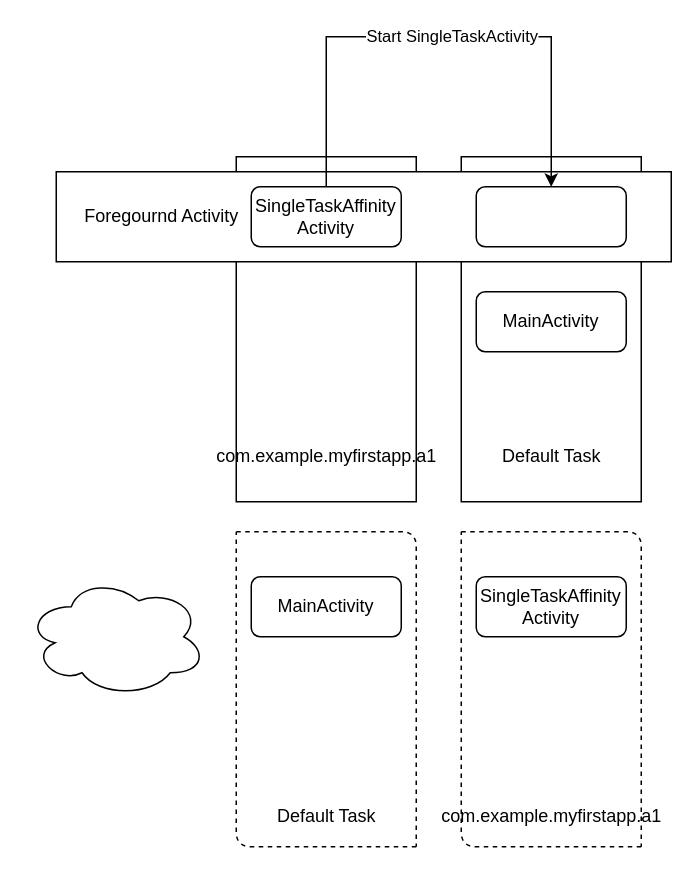
Some shapes in this 698 by 875 pixel diagram are drawn without their labels. The centre of each missing label's shape, as x and y in pixels:
"Background Task" belongs at point 115,636.
"SingleTaskActivity" belongs at point 550,216.
